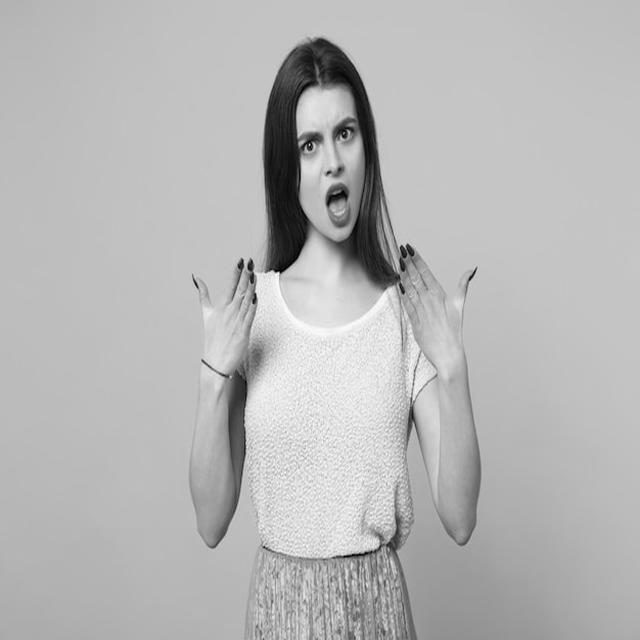Angry: (294, 87, 366, 242)
